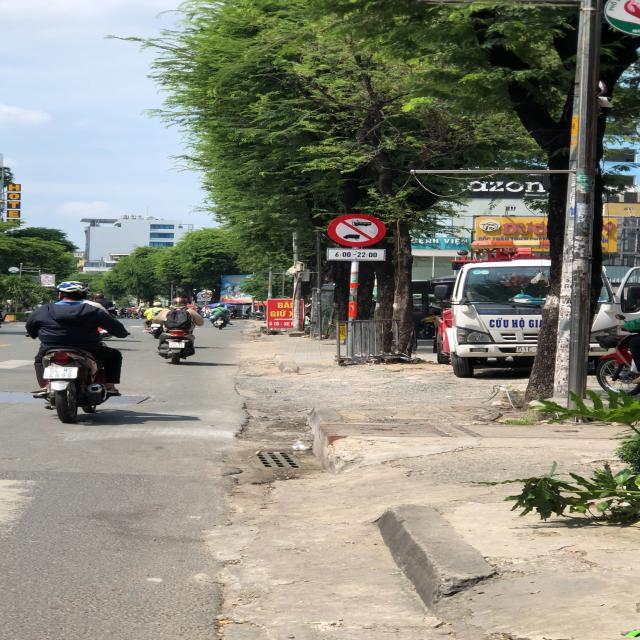Bien bao cam xe oto khach va xe oto tai: (319, 213, 392, 249)
